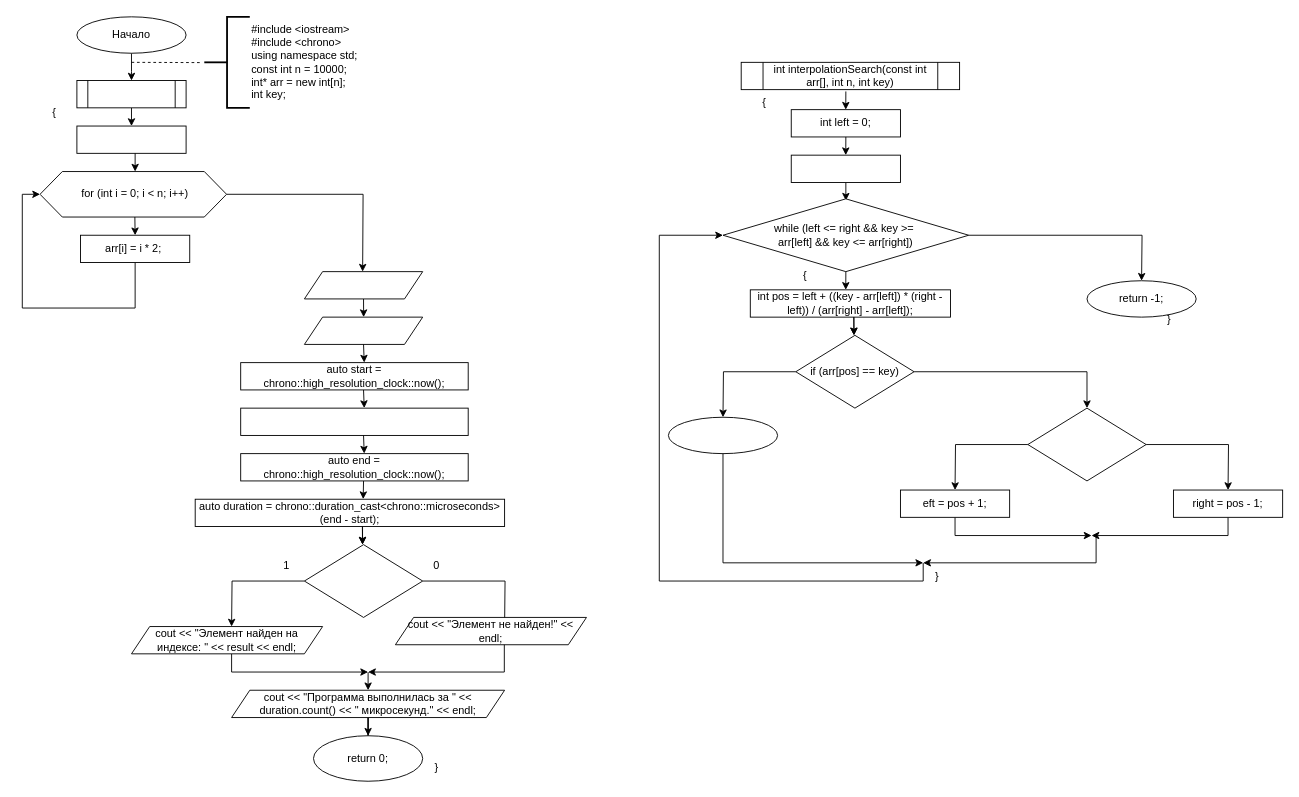
This 1299x797 diagram has some shape labels left out. The shapes that lost their labels are listed below. From the top down, each one's box as (x1, y1, x2, y2) in pixels, then its label:
(76, 80, 186, 108): int main()
(76, 125, 186, 153): setlocale(LC_ALL, "Russian");
(790, 154, 900, 182): int right = n - 1;
(303, 271, 423, 299): cout << "Введите элемент: ";
(303, 316, 423, 344): cin >> key;
(240, 407, 468, 435): int result = linearSearch(arr, n, key);
(667, 416, 778, 454): return pos;
(1027, 407, 1146, 481): else if (arr[pos] < key)
(303, 544, 423, 617): if (result >= 0)
